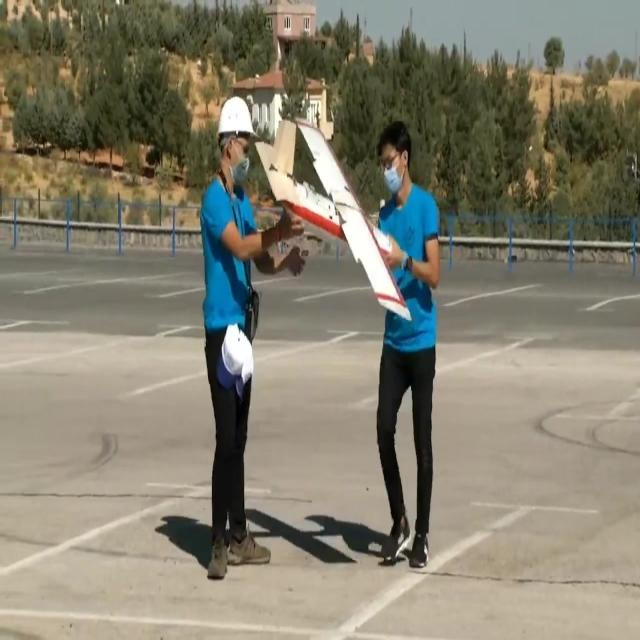iha: (254, 113, 412, 323)
